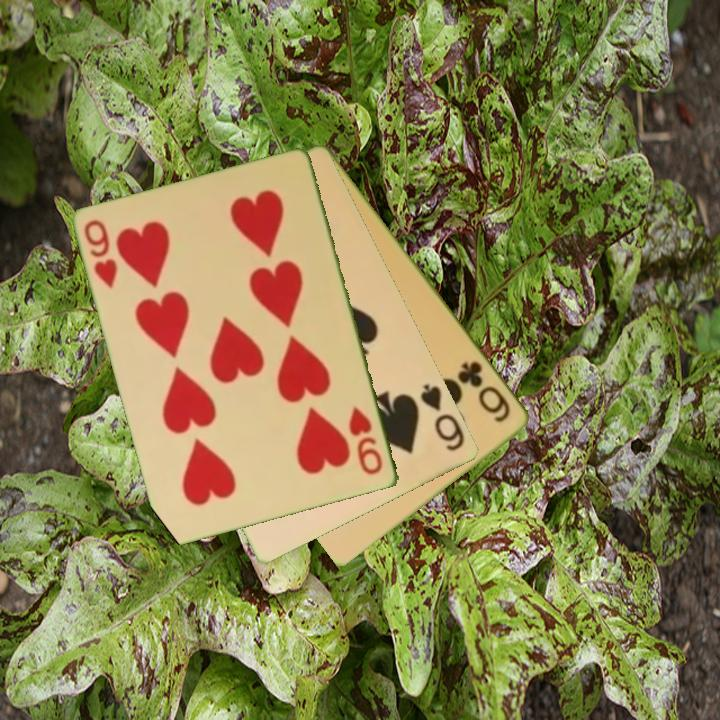6c: (455, 357, 514, 426)
6s: (417, 380, 468, 454)
9h: (345, 403, 386, 478), (81, 216, 121, 292)
